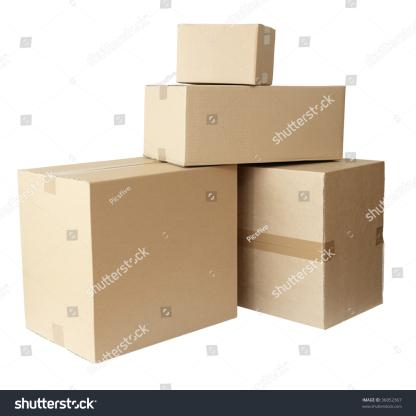box: (92, 166, 238, 363), (237, 164, 323, 330), (183, 84, 346, 167), (176, 22, 260, 82)
